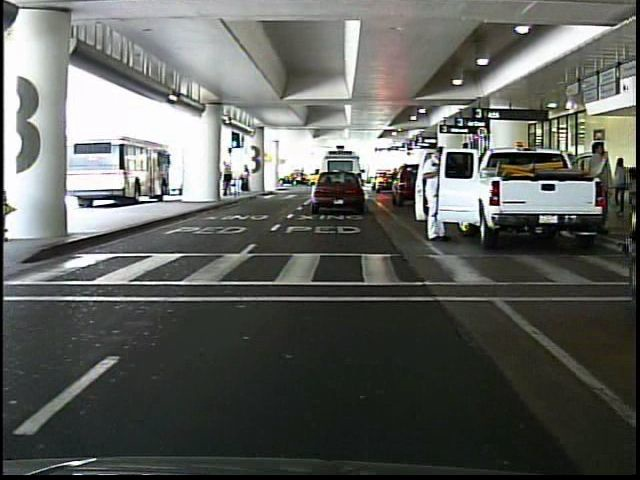person: (419, 140, 456, 246), (582, 138, 613, 229), (611, 154, 630, 209), (239, 163, 255, 195), (222, 159, 235, 198)
